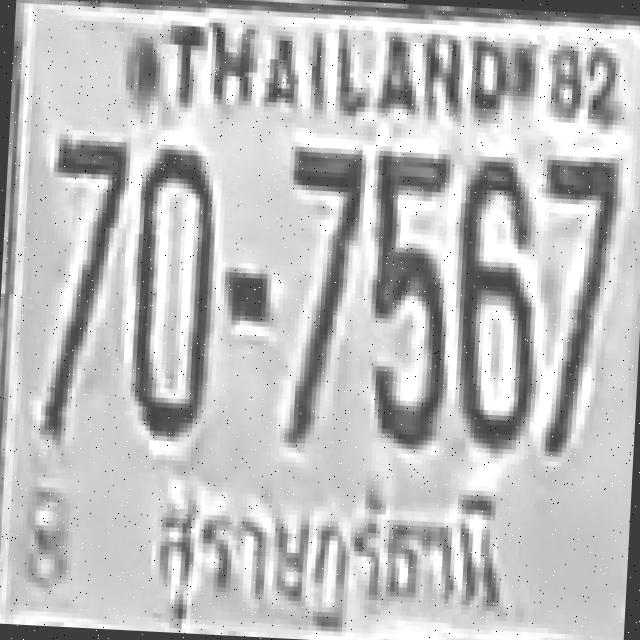3: (360, 242, 450, 446)
7: (534, 153, 620, 333), (48, 136, 128, 312), (284, 144, 364, 315), (536, 153, 620, 310)
SuratThani: (128, 468, 513, 640)
